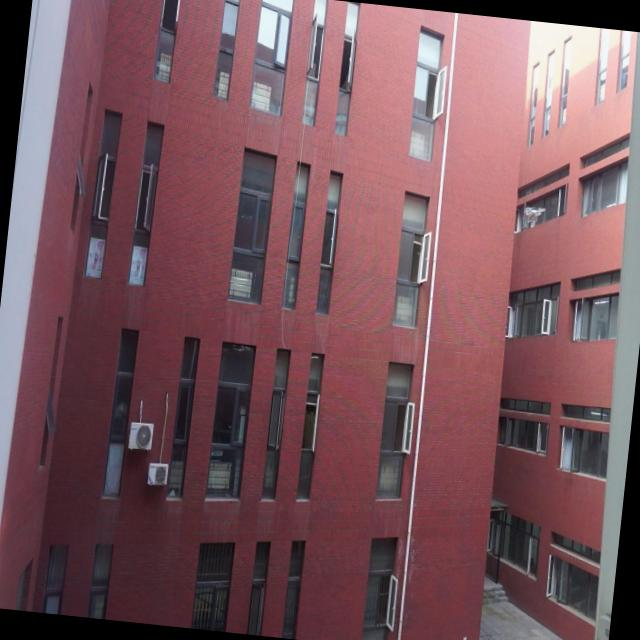drone: (518, 200, 548, 228)
